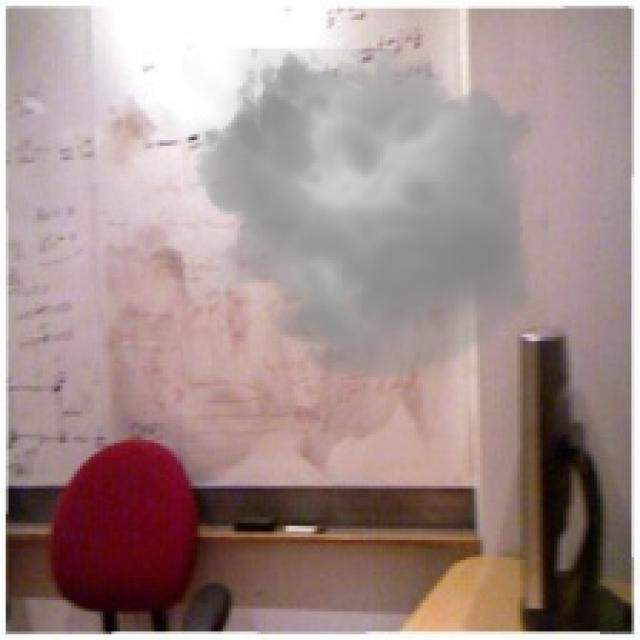Smoke: (182, 31, 548, 392)
